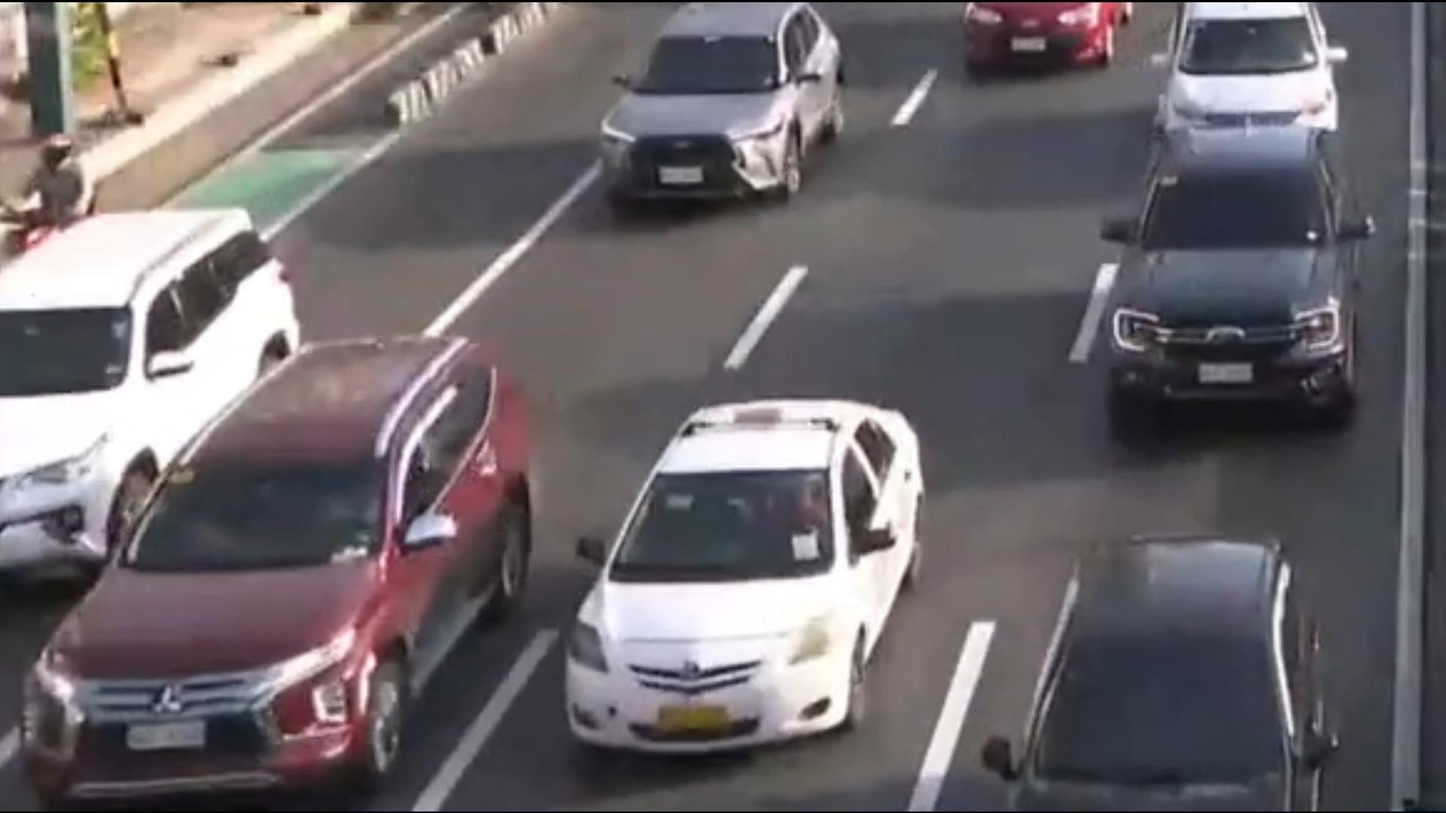SUV: (18, 324, 527, 813), (978, 527, 1338, 813), (1093, 125, 1371, 429), (585, 0, 850, 216)
Sedan: (558, 401, 926, 759)
Van: (0, 205, 278, 584)
